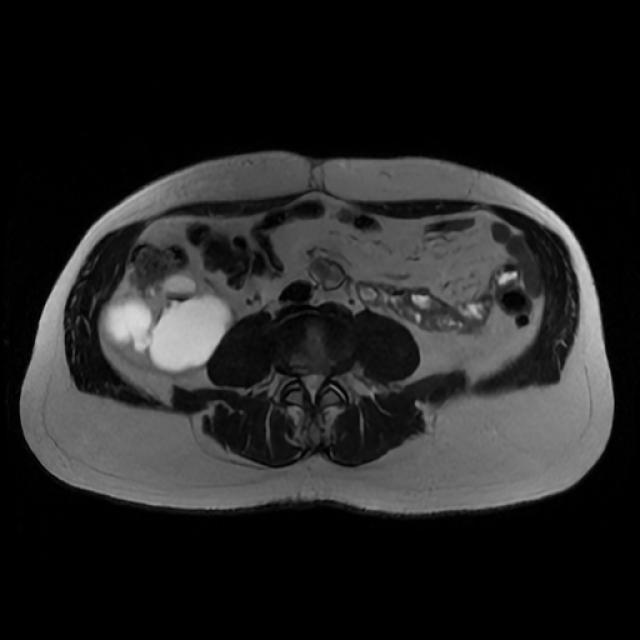sag: (101, 274, 237, 371)
